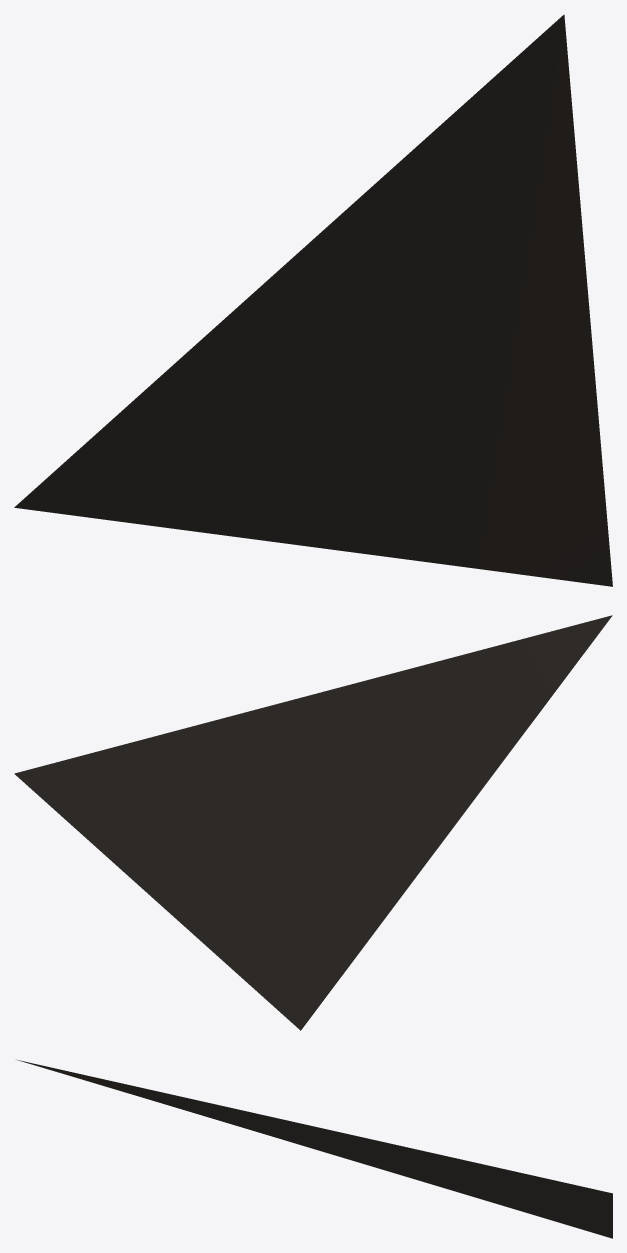
The picture shows the model from 3 angles, top to bottom: view 1: azimuth 30°, elevation 25°; view 2: azimuth 150°, elevation 25°; view 3: azimuth 270°, elevation 25°; orthographic projection. The views are drawn at different scales.
Size of the model in its own units: 0.0119 by 0.00745 by 0.0225.
1 material, 1 textured.
